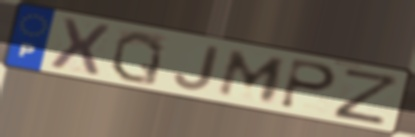J: (172, 44, 222, 92)
M: (214, 48, 290, 105)
P: (277, 57, 340, 112)
Q: (108, 30, 167, 88)
X: (46, 15, 113, 78)
Z: (331, 65, 404, 127)
